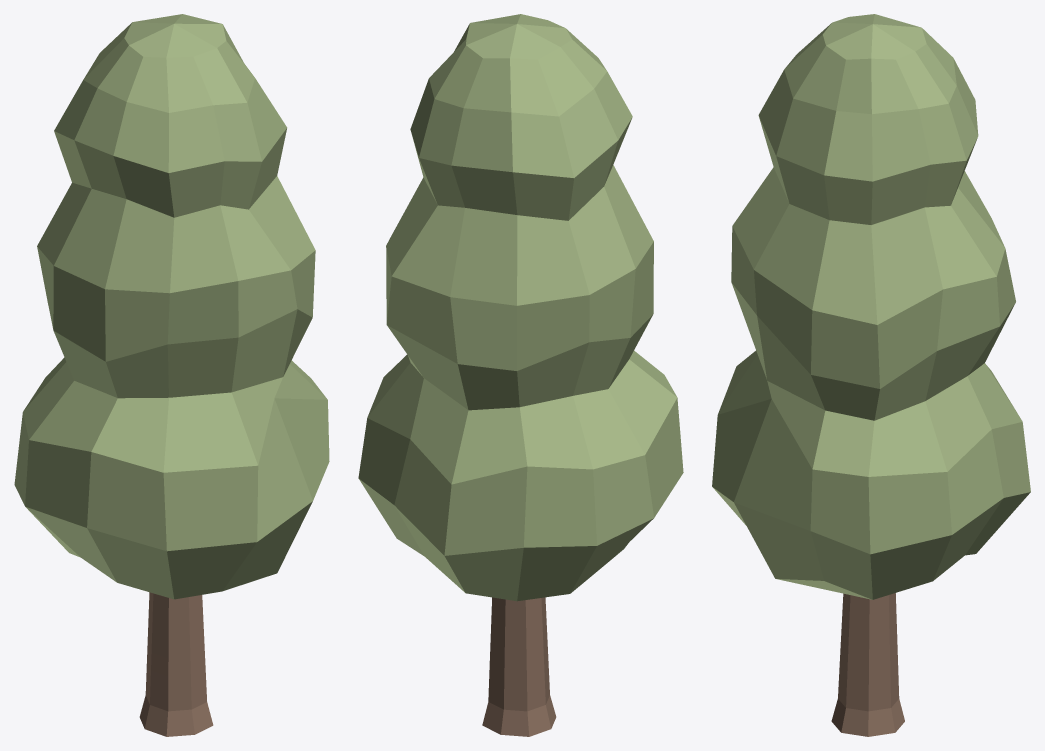
Rendered from Tree_stem_01.002.fbx.
3 views of the same model, side by side, from view 1: azimuth 30°, elevation 25°; view 2: azimuth 150°, elevation 25°; view 3: azimuth 270°, elevation 25° (orthographic).
Parts seen in each view (by area): view 1: Tree_stem_01.002; view 2: Tree_stem_01.002; view 3: Tree_stem_01.002.
Part boxes in pixels (box(x1,y1,x2,y2)): Tree_stem_01.002: box(14, 14, 329, 736); Tree_stem_01.002: box(358, 14, 683, 736); Tree_stem_01.002: box(712, 14, 1030, 736).
Size of the model in its own units: 130 by 303 by 126.
